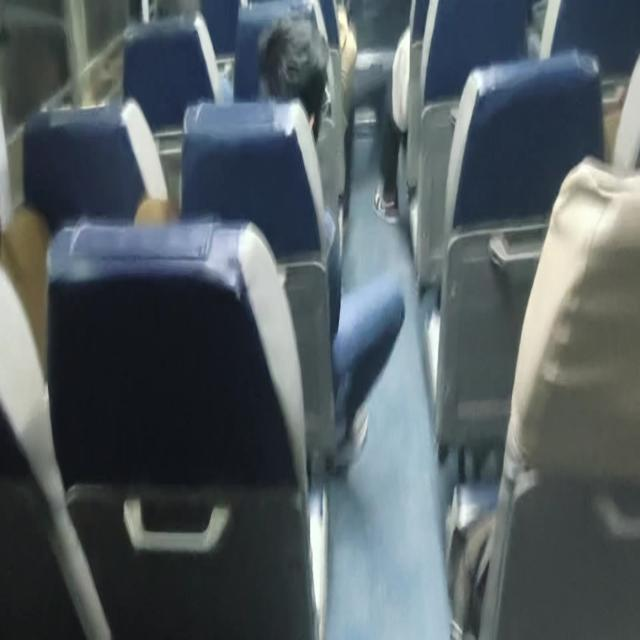person: (477, 54, 639, 637), (255, 15, 406, 472), (256, 14, 338, 258), (256, 15, 330, 144), (372, 24, 411, 224)
